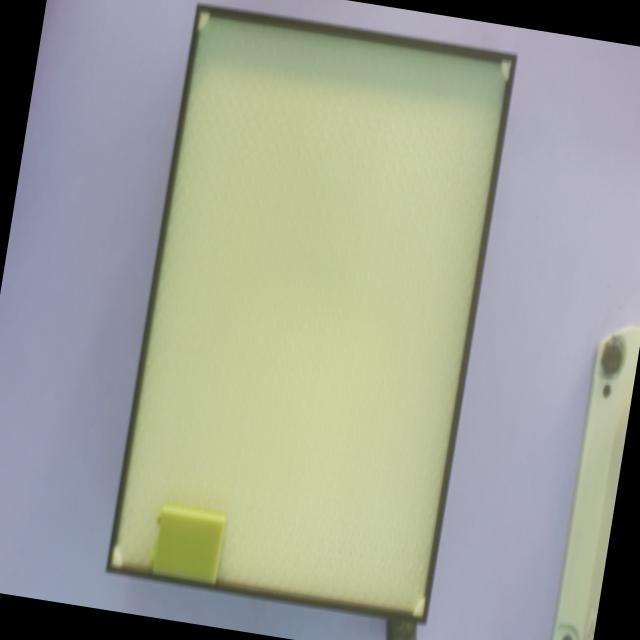Bateria: (154, 506, 226, 583)
Mesa: (106, 4, 518, 626)
Pestana: (150, 551, 156, 563), (156, 512, 162, 523)
